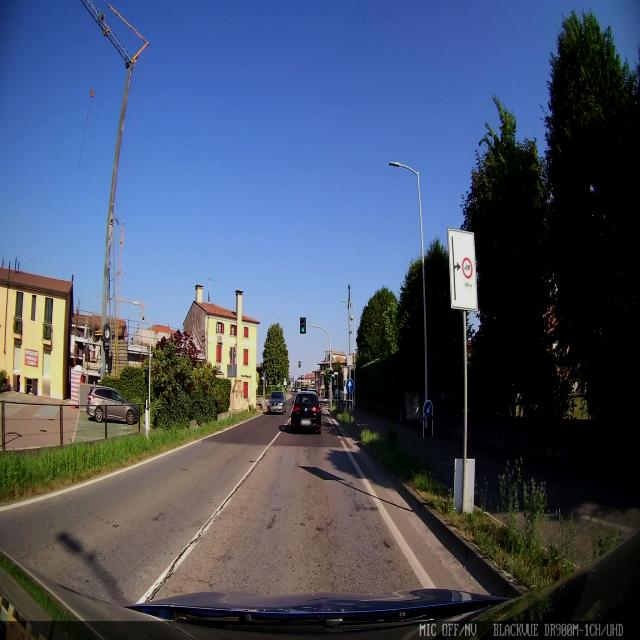car: (87, 384, 139, 425), (290, 389, 322, 434), (266, 389, 286, 414)
